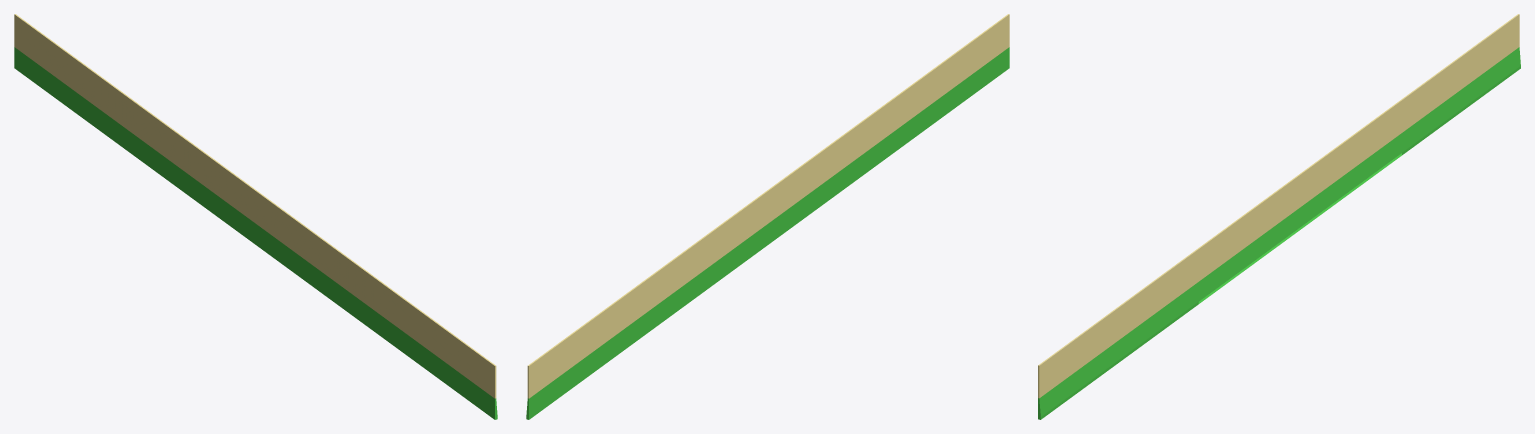
File: interior_school_room_east_00_invisible.fbx
The picture shows the model from 3 angles, left to right: view 1: azimuth 30°, elevation 25°; view 2: azimuth 150°, elevation 25°; view 3: azimuth 330°, elevation 25°; orthographic projection.
Visible parts, largest first — view 1: Invisible Mesh; view 2: Invisible Mesh; view 3: Invisible Mesh.
Part boxes in pixels (bbox=[...]): Invisible Mesh: bbox=[14, 14, 497, 419]; Invisible Mesh: bbox=[526, 14, 1009, 419]; Invisible Mesh: bbox=[1038, 14, 1520, 419].
Size of the model in its own units: 20 by 380 by 6139.
